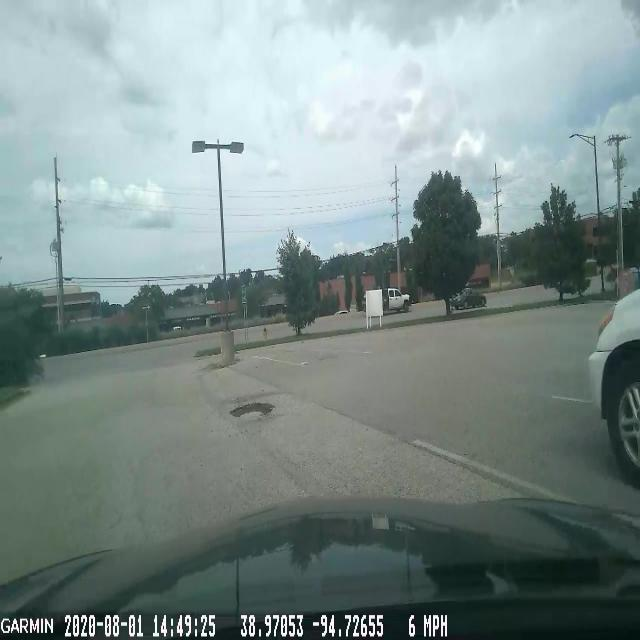Pothole: (221, 384, 279, 434)
